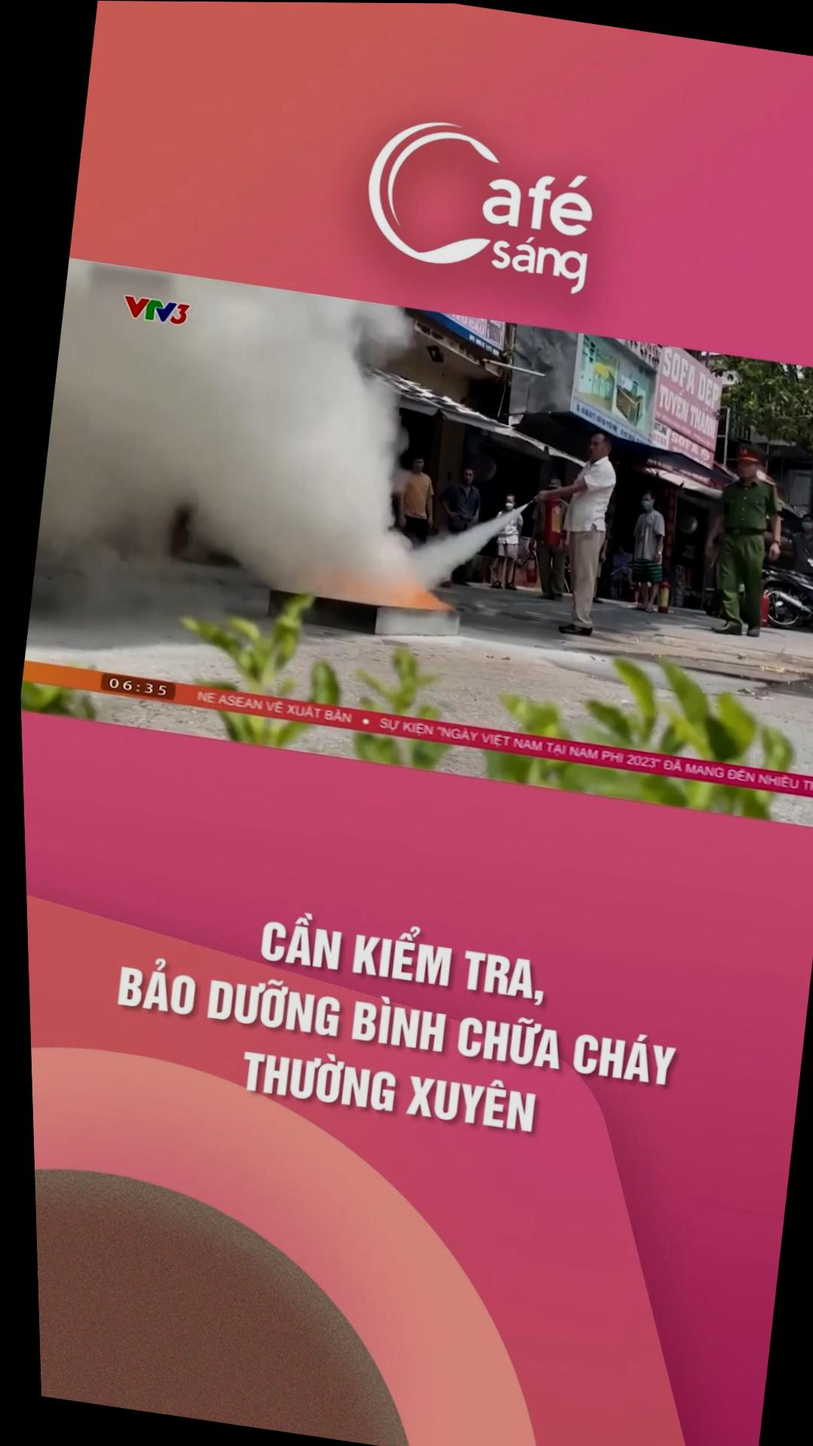FireExtinguisher: (519, 476, 576, 561)
not: (260, 555, 457, 636)
